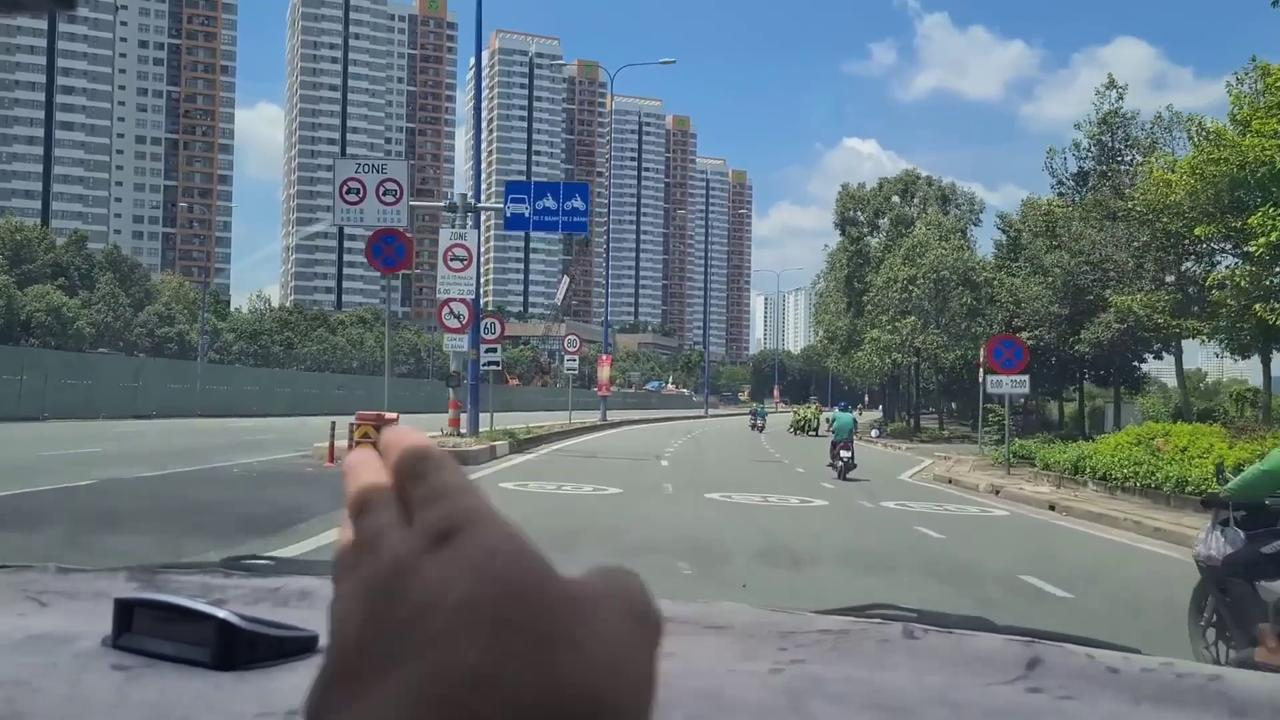Biển phụ: (984, 373, 1031, 394), (476, 342, 503, 371), (442, 332, 469, 352), (563, 355, 579, 374)
Cấm cac phương tiện hoạt động trong khung giờ cố định: (331, 156, 410, 228), (437, 228, 476, 298)
Cấm dừng - Cấm đỗ: (362, 226, 413, 274), (984, 332, 1034, 375)
Cấm xe máy: (437, 296, 475, 332)
GIơi hạn tốc độ 60Km/h: (477, 314, 506, 343)
Giới hạn tốc độ 80Km/h: (562, 332, 581, 354)
Làn đường cho từng xe: (503, 179, 590, 233)
